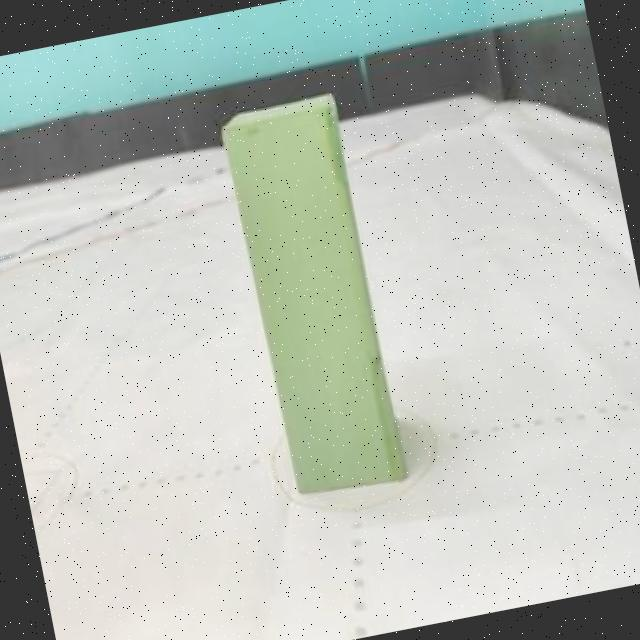greenbox: (215, 91, 412, 502)
